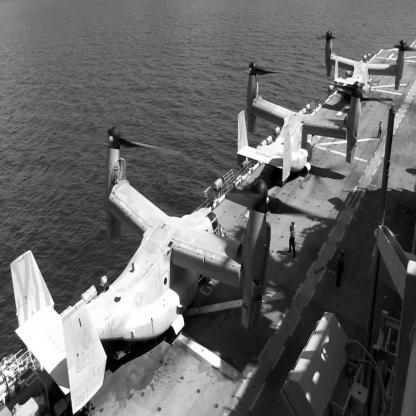V22: (11, 126, 315, 415), (214, 59, 394, 185), (306, 31, 416, 99)
